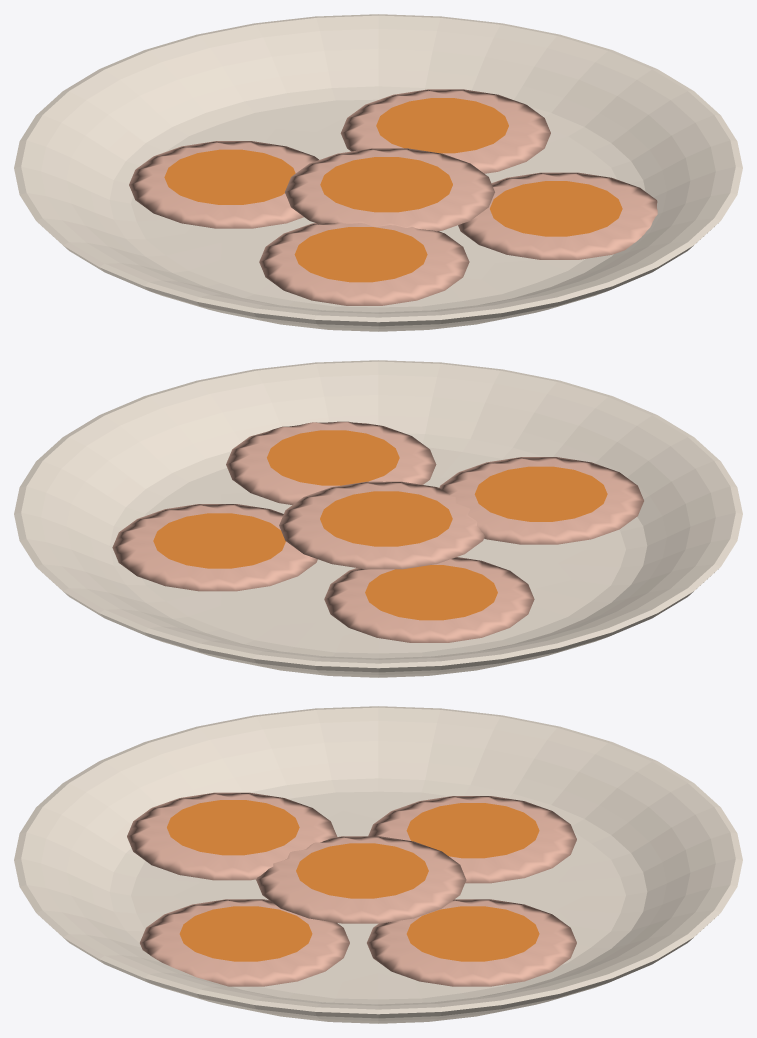
The model's file is KUE BULAN.fbx.
3 renders of one model, top to bottom at view 1: azimuth 30°, elevation 25°; view 2: azimuth 150°, elevation 25°; view 3: azimuth 270°, elevation 25°, orthographic.
Parts seen in each view (by area): view 1: Cylinder, Cylinder.007, Cylinder.009, Cylinder.005, Cylinder.001, Cylinder.003, Cylinder.006, Cylinder.010, Cylinder.008, Cylinder.004, Cylinder.002; view 2: Cylinder, Cylinder.009, Cylinder.001, Cylinder.007, Cylinder.003, Cylinder.005, Cylinder.010, Cylinder.008, Cylinder.004, Cylinder.006, Cylinder.002; view 3: Cylinder, Cylinder.009, Cylinder.003, Cylinder.005, Cylinder.007, Cylinder.001, Cylinder.006, Cylinder.004, Cylinder.010, Cylinder.008, Cylinder.002.
Part boxes in pixels (bbox=[...]): Cylinder: bbox=[14, 14, 742, 331]; Cylinder.007: bbox=[259, 222, 469, 305]; Cylinder.009: bbox=[285, 148, 494, 231]; Cylinder.005: bbox=[458, 172, 657, 259]; Cylinder.001: bbox=[129, 141, 318, 228]; Cylinder.003: bbox=[340, 89, 550, 173]; Cylinder.006: bbox=[490, 181, 622, 236]; Cylinder.010: bbox=[320, 157, 452, 212]; Cylinder.008: bbox=[294, 227, 427, 282]; Cylinder.004: bbox=[376, 98, 508, 153]; Cylinder.002: bbox=[164, 149, 295, 204]; Cylinder: bbox=[14, 360, 742, 677]; Cylinder.009: bbox=[279, 481, 484, 569]; Cylinder.001: bbox=[324, 557, 534, 642]; Cylinder.007: bbox=[439, 457, 643, 544]; Cylinder.003: bbox=[112, 504, 317, 591]; Cylinder.005: bbox=[226, 421, 436, 504]; Cylinder.010: bbox=[320, 491, 452, 546]; Cylinder.008: bbox=[474, 466, 607, 521]; Cylinder.004: bbox=[153, 513, 285, 568]; Cylinder.006: bbox=[267, 430, 399, 485]; Cylinder.002: bbox=[365, 565, 497, 620]; Cylinder: bbox=[14, 706, 742, 1023]; Cylinder.009: bbox=[256, 836, 466, 923]; Cylinder.003: bbox=[367, 899, 576, 986]; Cylinder.005: bbox=[140, 899, 349, 986]; Cylinder.007: bbox=[127, 792, 337, 880]; Cylinder.001: bbox=[368, 796, 576, 883]; Cylinder.006: bbox=[179, 906, 312, 961]; Cylinder.004: bbox=[406, 906, 539, 961]; Cylinder.010: bbox=[296, 843, 428, 898]; Cylinder.008: bbox=[167, 800, 299, 855]; Cylinder.002: bbox=[406, 803, 539, 858].
Size of the model in its own units: 231 by 19.71 by 231.
